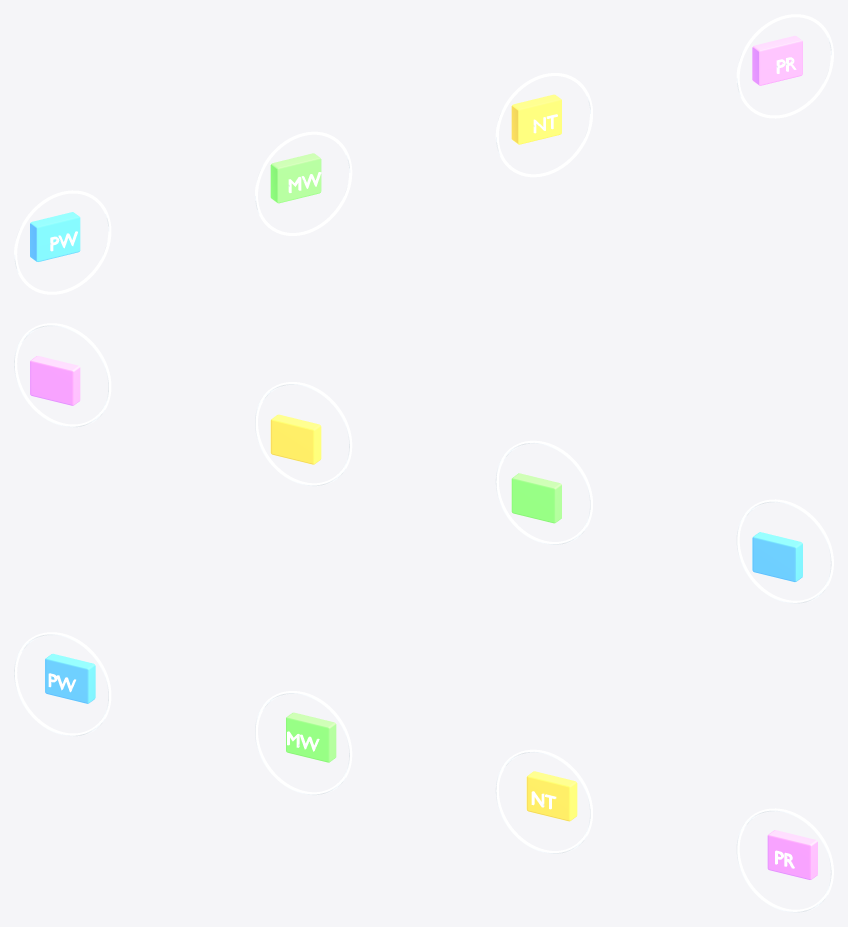
File: cg_quiz_shield_blocks.glb
3 views of the same model, one above another, from view 1: azimuth 30°, elevation 25°; view 2: azimuth 150°, elevation 25°; view 3: azimuth 330°, elevation 25° (orthographic).
Visible parts, largest first — view 1: Network_shield_panel, Privacy_shield_panel, Password_shield_panel, Malware_shield_panel, Password_shield_rim, Privacy_shield_rim, Malware_shield_rim, Network_shield_rim; view 2: Network_shield_panel, Privacy_shield_panel, Malware_shield_panel, Password_shield_panel, Password_shield_rim, Privacy_shield_rim, Malware_shield_rim, Network_shield_rim; view 3: Network_shield_panel, Privacy_shield_panel, Password_shield_panel, Malware_shield_panel, Password_shield_rim, Privacy_shield_rim, Malware_shield_rim, Network_shield_rim.
Part boxes in pixels (<box>): Network_shield_panel: <box>511,94,561,144</box>; Privacy_shield_panel: <box>752,35,802,85</box>; Password_shield_panel: <box>30,212,80,261</box>; Malware_shield_panel: <box>270,153,321,203</box>; Password_shield_rim: <box>14,190,111,294</box>; Privacy_shield_rim: <box>736,14,833,118</box>; Malware_shield_rim: <box>255,131,352,235</box>; Network_shield_rim: <box>495,73,592,177</box>; Network_shield_panel: <box>270,414,321,464</box>; Privacy_shield_panel: <box>30,356,80,405</box>; Malware_shield_panel: <box>511,473,561,523</box>; Password_shield_panel: <box>752,532,802,582</box>; Password_shield_rim: <box>736,499,833,603</box>; Privacy_shield_rim: <box>14,323,111,427</box>; Malware_shield_rim: <box>495,440,592,544</box>; Network_shield_rim: <box>255,382,352,486</box>; Network_shield_panel: <box>526,771,577,821</box>; Privacy_shield_panel: <box>767,830,817,879</box>; Password_shield_panel: <box>45,653,95,703</box>; Malware_shield_panel: <box>286,712,336,762</box>; Password_shield_rim: <box>14,632,111,736</box>; Privacy_shield_rim: <box>736,808,833,912</box>; Malware_shield_rim: <box>255,691,352,795</box>; Network_shield_rim: <box>495,749,592,853</box>.
Bounding box in the file's own units: 8.17 × 0.968 × 0.215.
